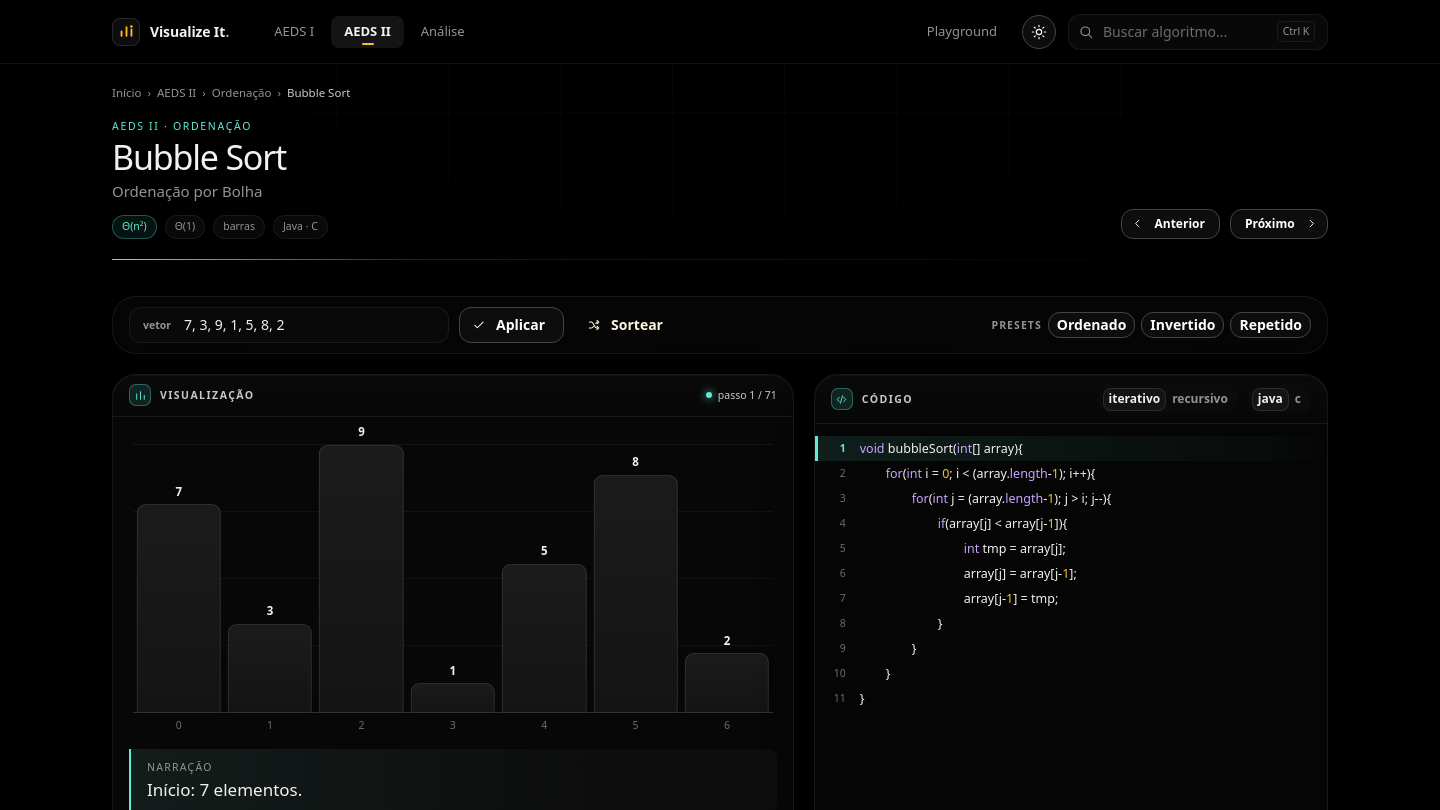
it: App › switches bolha between iterative and recursive listings
Click the text "recursivo" at (1200, 398), box x1=1172 y1=390 x2=1228 y2=407
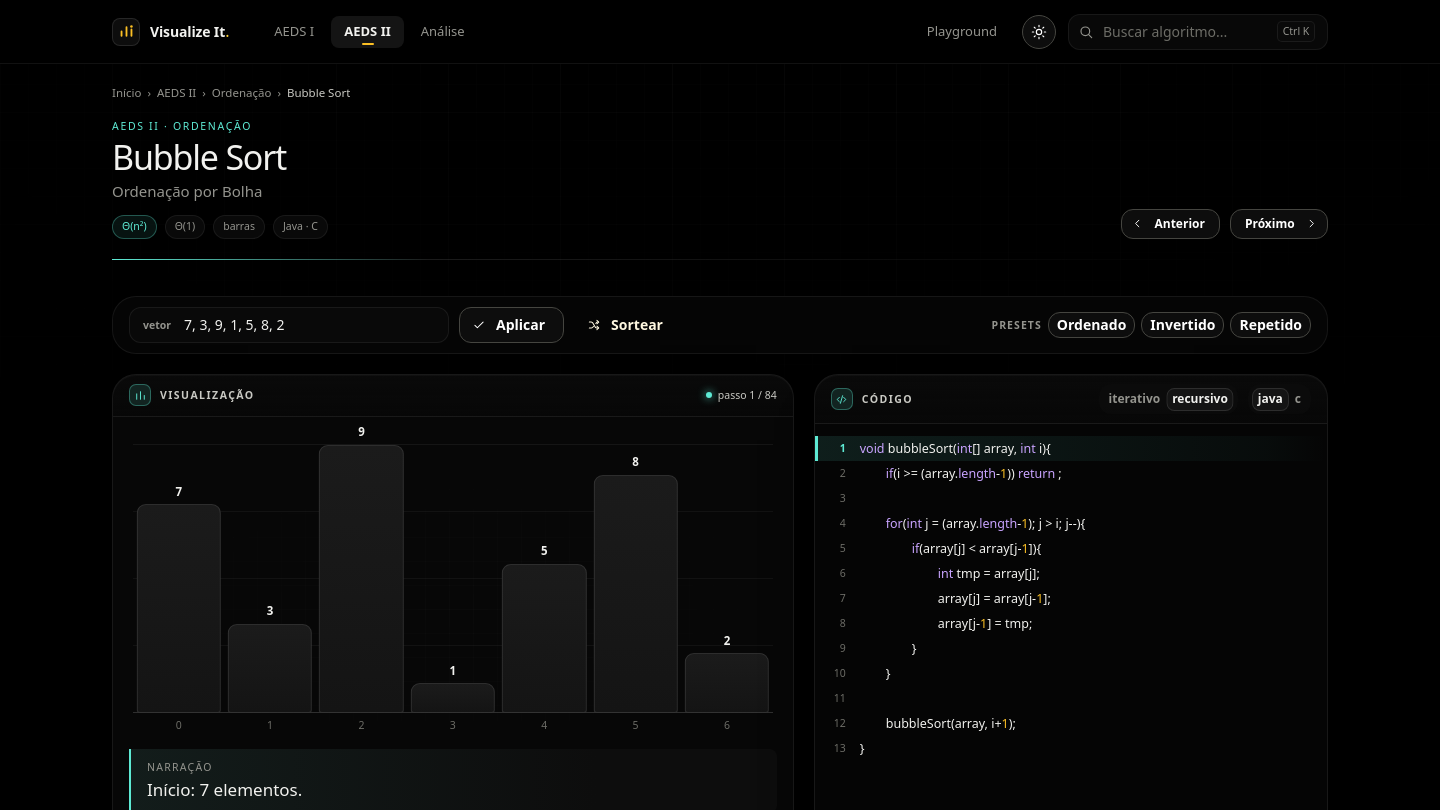
expect the text "bubbleSort(array, i+1)" is shown: met, box x1=860 y1=712 x2=1016 y2=736
Click the text "c" at (1298, 398), box x1=1295 y1=390 x2=1301 y2=407
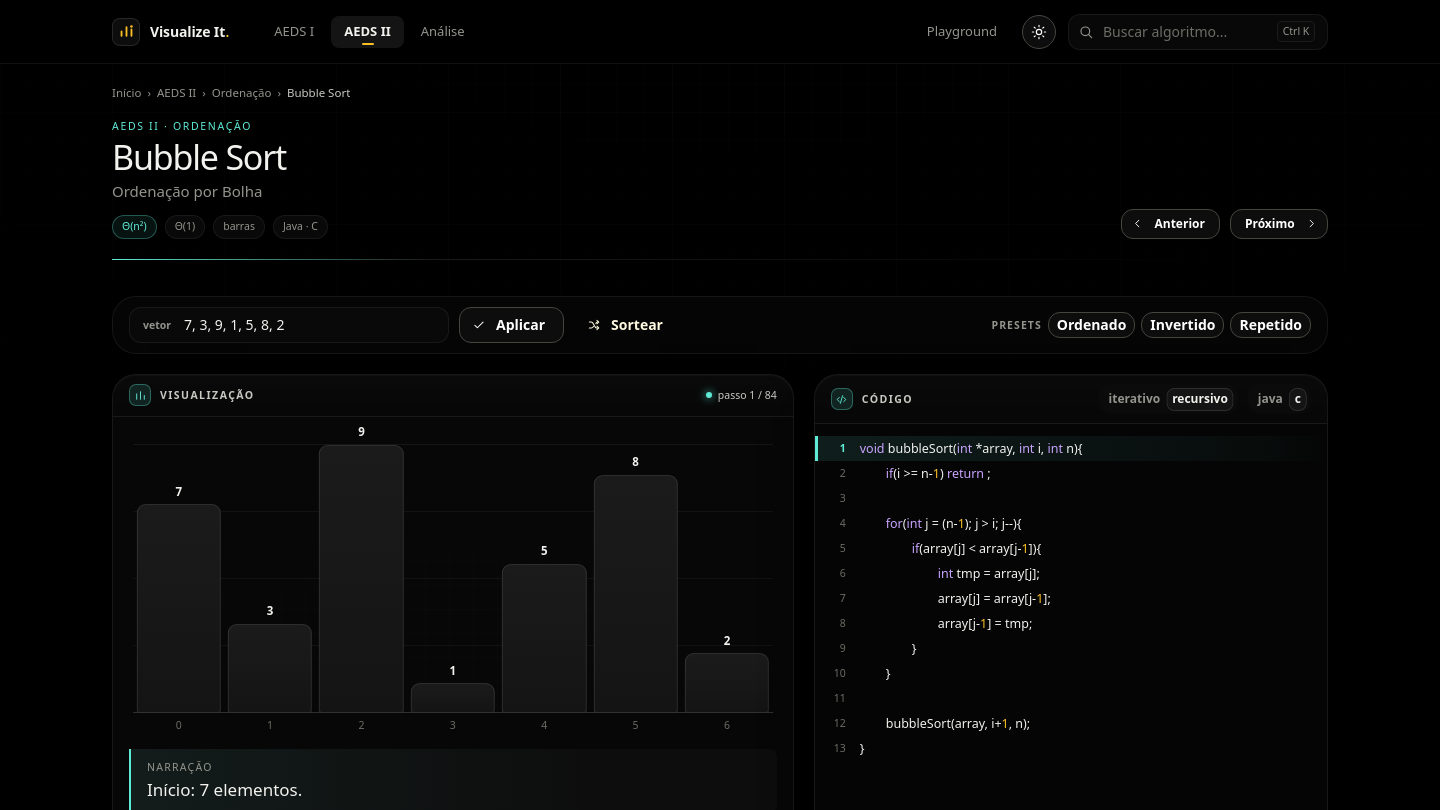
expect the text "void bubbleSort(int *array, int i, int n)" is shown: met, box x1=860 y1=436 x2=1082 y2=462
